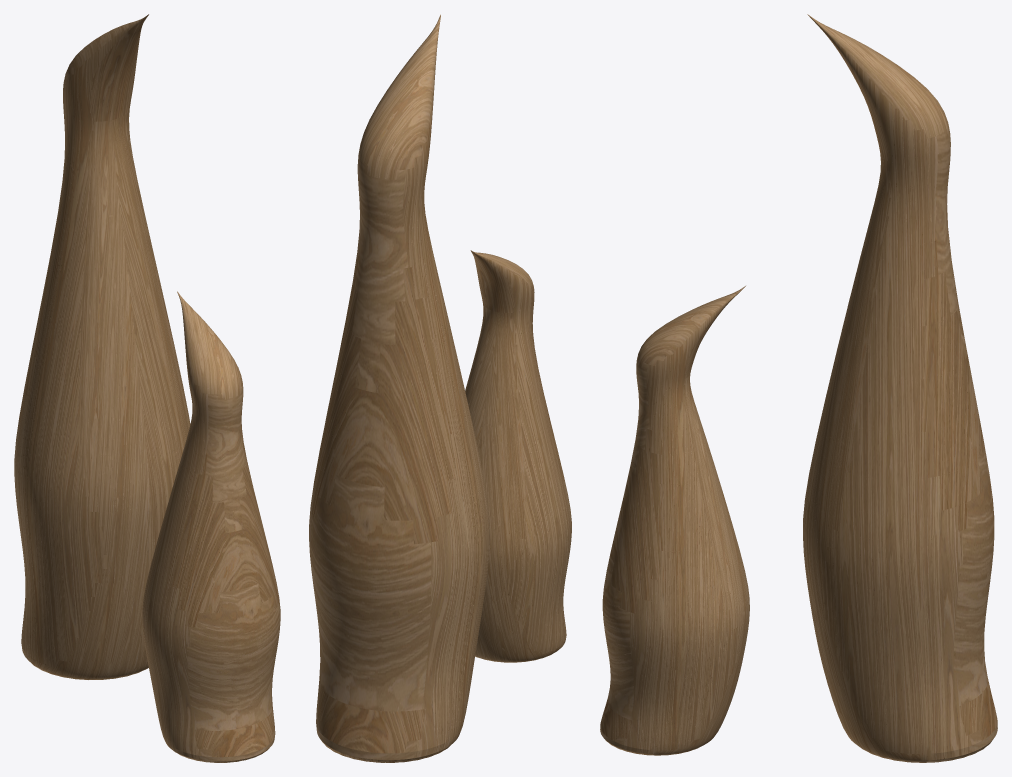
Rendered from penguin.gltf.
3 views of the same model, side by side, from view 1: azimuth 30°, elevation 25°; view 2: azimuth 150°, elevation 25°; view 3: azimuth 270°, elevation 25° (orthographic). The views are drawn at different scales.
Visible parts, largest first — view 1: penguin_parent, penguin_child; view 2: penguin_parent, penguin_child; view 3: penguin_parent, penguin_child.
Boxes of the visible parts, box(x1,y1,x2,y2) form: penguin_parent: box(14, 14, 190, 679); penguin_child: box(142, 291, 280, 762); penguin_parent: box(309, 14, 489, 762); penguin_child: box(465, 250, 571, 662); penguin_parent: box(803, 14, 997, 762); penguin_child: box(600, 286, 749, 755).
Bounding box in the file's own units: 0.3703 × 1.54 × 0.7685.
Materials: 2 (2 with a texture image).
